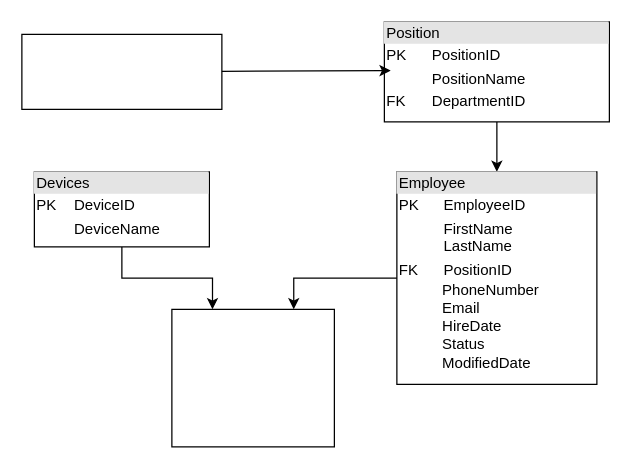
Some shapes in this 631 by 469 pixel diagram are drawn without their labels. Here are the shapes that lost their labels. From the top down, the centre of each, then its label:
At (x=121, y=71): "Department PK DepartmentID DepartmentName".
At (x=252, y=377): "Events PK EventID FK EmployeeID FK DeviceID EventType EventTime".
